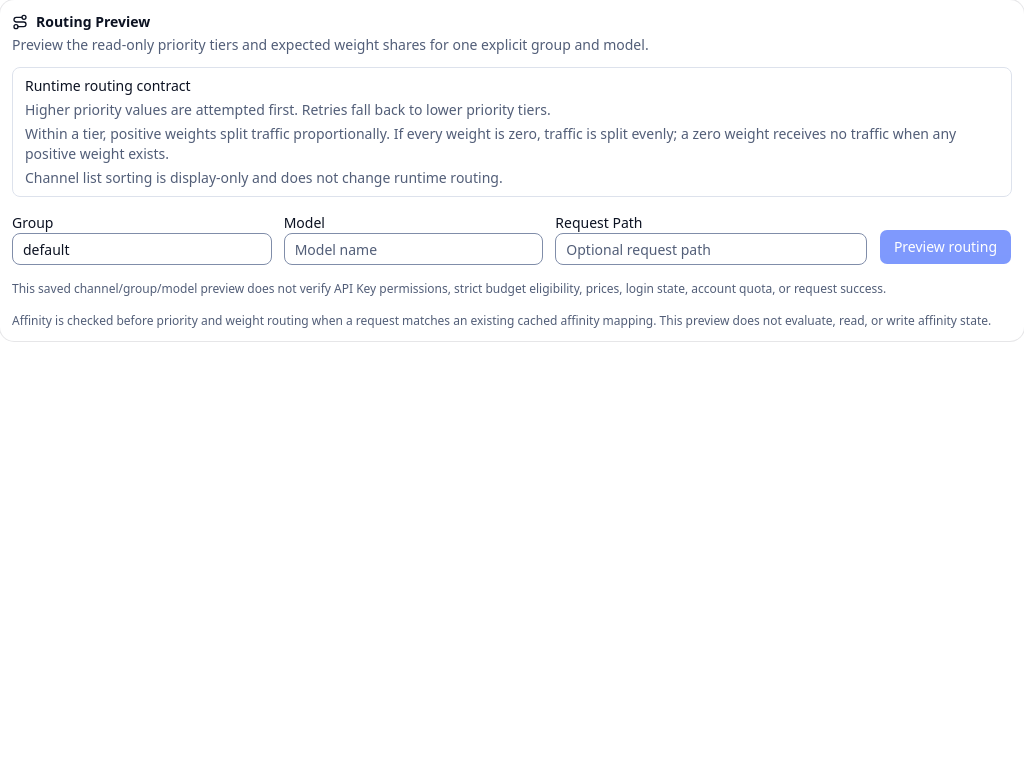
Test: account scheduling preview › an eligible channel with some cooling accounts stays in its tier and shows the next hold expiry
The width and height of the screenshot is (1024, 768).
Type "public-model" into the field named "Routing preview model".
click(413, 249); type("public-model")  # box [284,233,543,265]
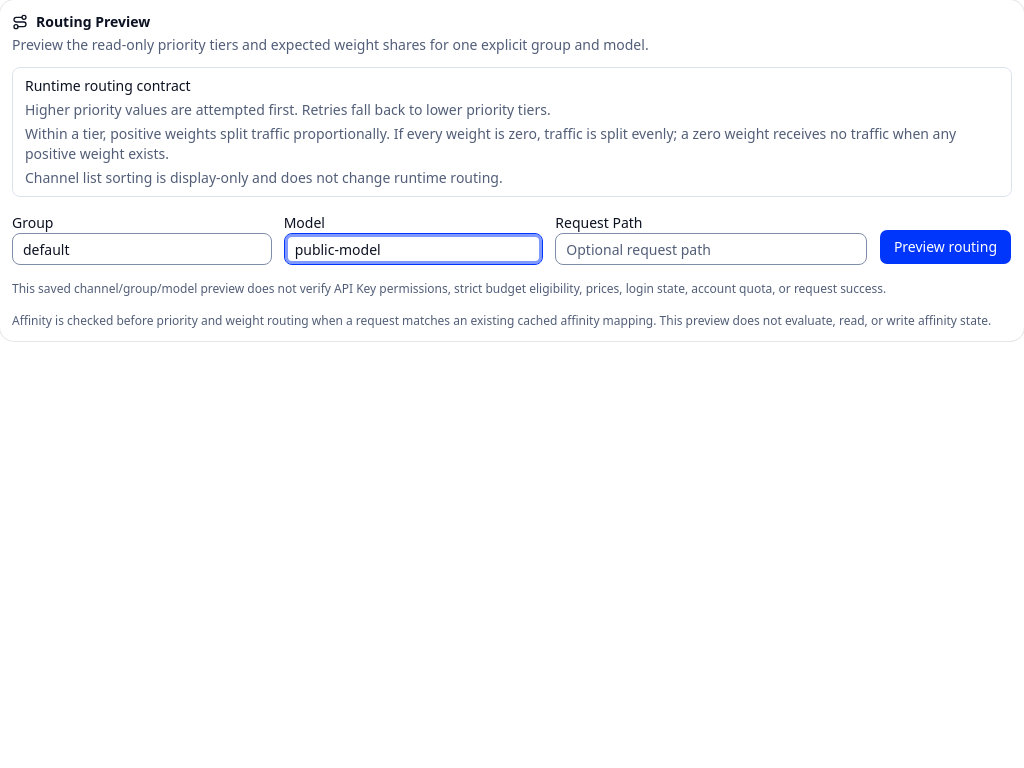
Click the button "Preview routing".
click(945, 247)  # box [879,229,1012,265]
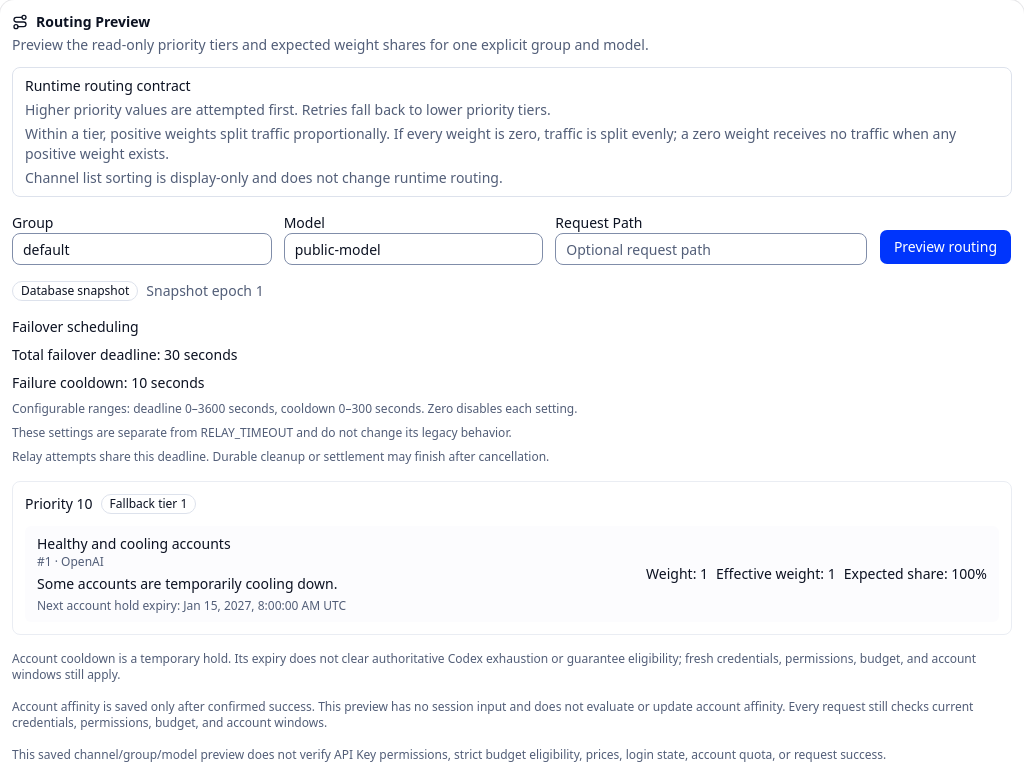
Result: the text "Healthy and cooling accounts" is shown at [37,534,231,553]
Result: the text "Some accounts are temporarily cooling down." is shown at [37,574,337,593]
Result: the text "Next account hold expiry: Jan 15, 2027, 8:00:00 AM UTC" is shown at [37,597,346,614]
